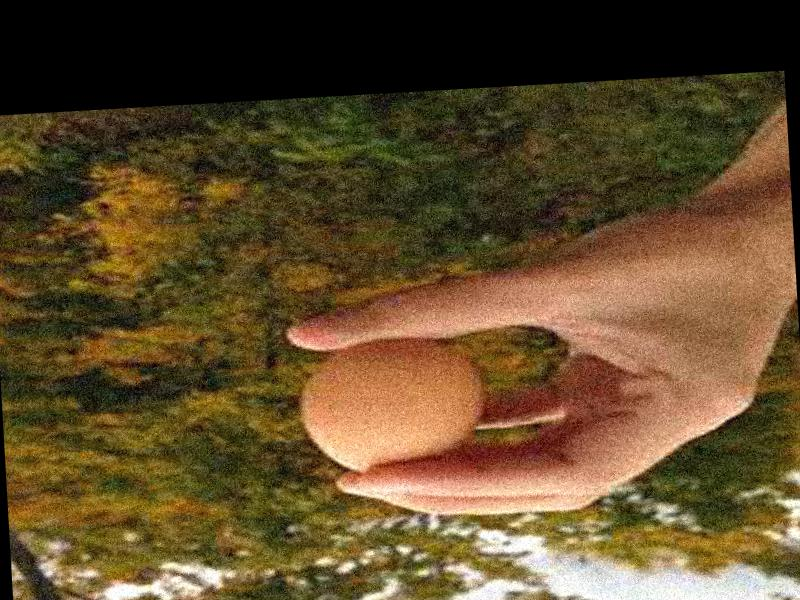Eggs: (299, 333, 484, 477)
